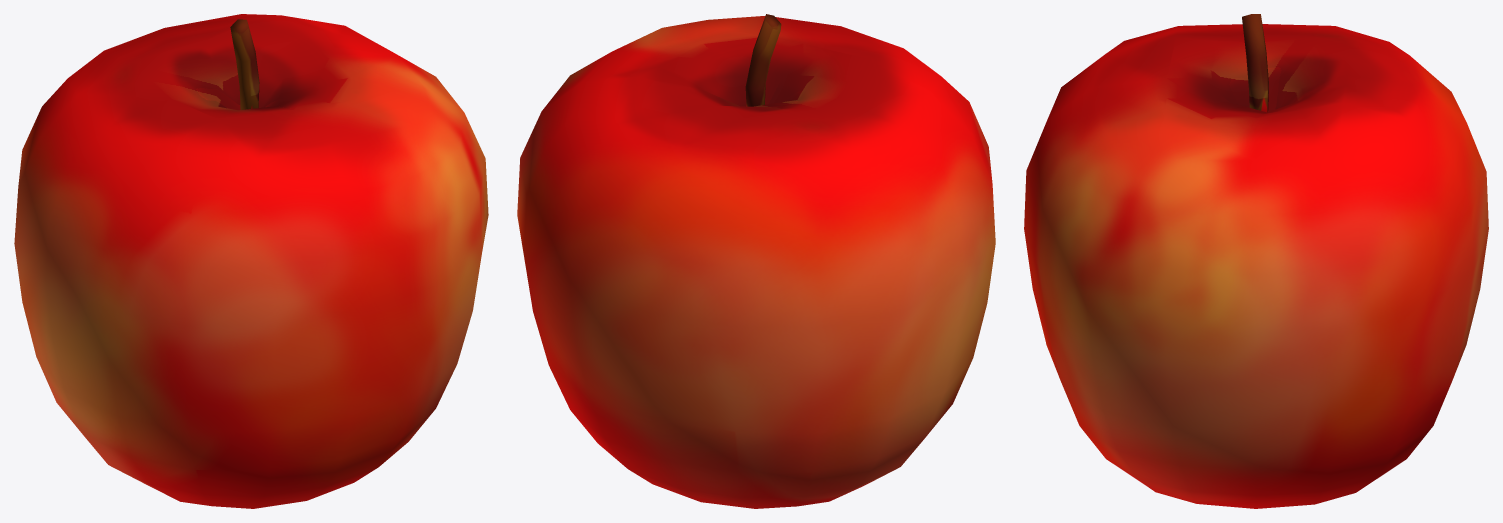
File: Apple.fbx
3 renders of one model, left to right at view 1: azimuth 30°, elevation 25°; view 2: azimuth 150°, elevation 25°; view 3: azimuth 270°, elevation 25°, orthographic.
Parts seen in each view (by area): view 1: Apple; view 2: Apple; view 3: Apple.
Boxes of the visible parts, x1,y1,x2,y2 form: Apple: (14, 14, 488, 508); Apple: (517, 14, 995, 508); Apple: (1024, 14, 1488, 508).
Size of the model in its own units: 141 by 148 by 136.
Materials: 1 (1 with a texture image).
